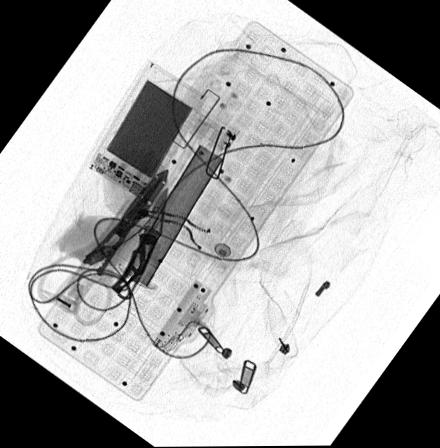Knife: (110, 186, 168, 300)
Powerbank: (85, 60, 207, 202)
Scissors: (35, 168, 170, 328)
